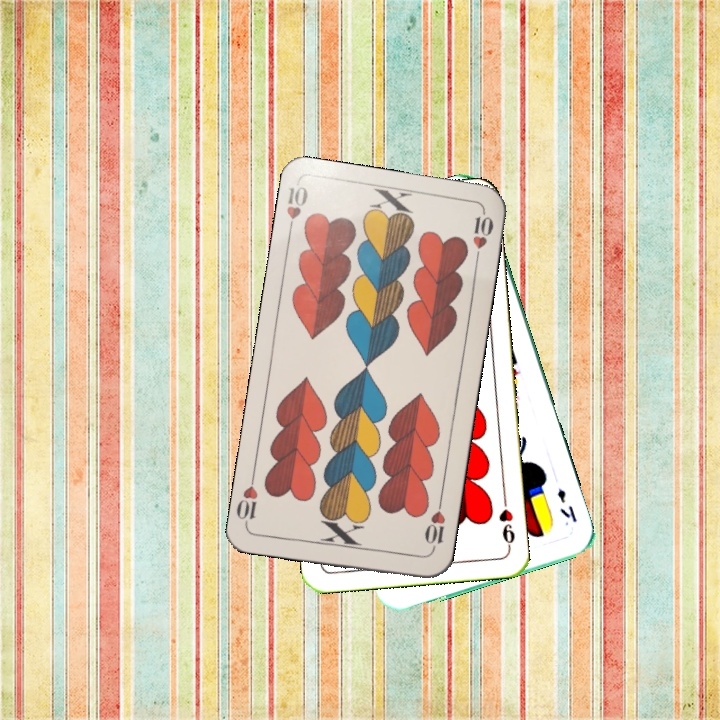EK: (552, 485, 580, 525)
H10: (282, 180, 311, 239), (420, 496, 448, 555)
H9: (495, 492, 518, 551)
